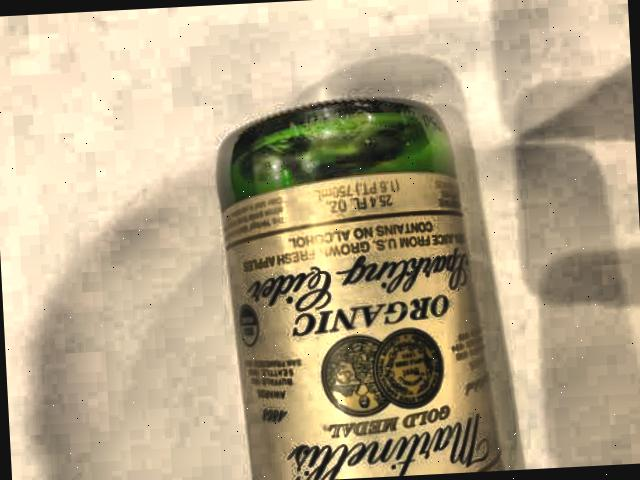Bottles: (165, 72, 518, 480)
